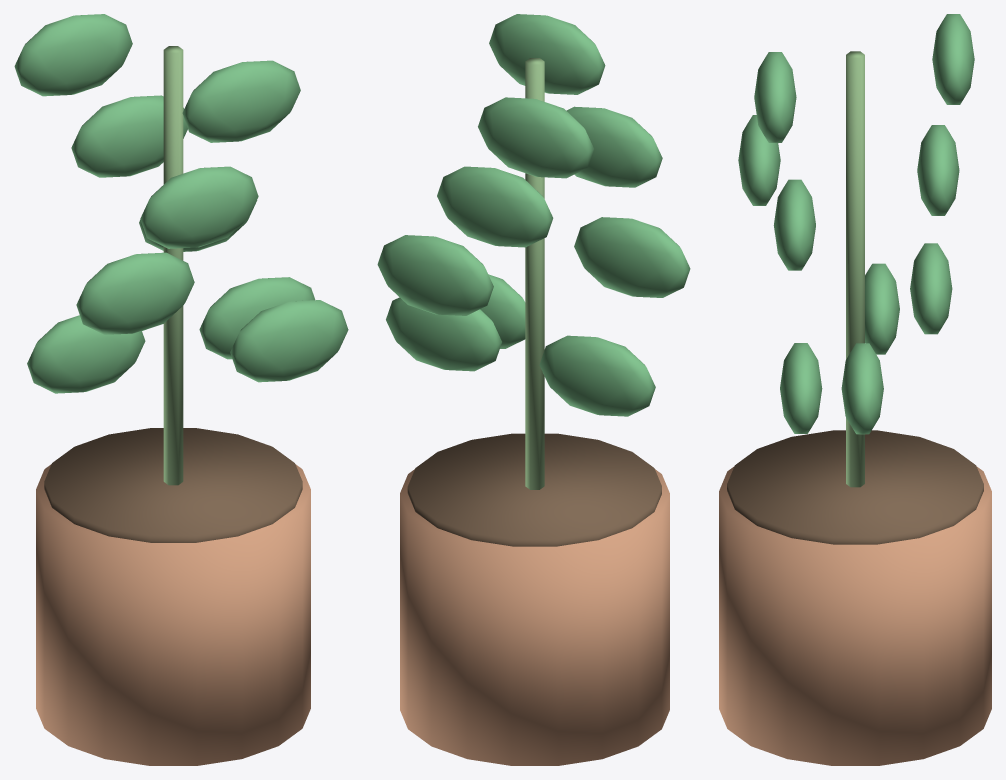
File: planta.glb
3 views of the same model, side by side, from view 1: azimuth 30°, elevation 25°; view 2: azimuth 150°, elevation 25°; view 3: azimuth 270°, elevation 25° (orthographic).
Visible parts, largest first — view 1: Vaso, Terra, Folha.007, Folha.005, Folha.003, Folha.008, Folha.006, Haste, Folha.002, Folha.004, Folha; view 2: Vaso, Terra, Folha.005, Folha.004, Folha.002, Folha.001, Folha.003, Folha.007, Haste, Folha, Folha.006, Folha.008; view 3: Vaso, Terra, Haste, Folha.001, Folha, Folha.005, Folha.007, Folha.002, Folha.008, Folha.003, Folha.006, Folha.004.
Boxes of the visible parts, left/top/right/bottom form: Vaso: left=36, top=464, right=310, bottom=765; Terra: left=44, top=428, right=302, bottom=542; Folha.007: left=182, top=60, right=300, bottom=142; Folha.005: left=76, top=252, right=194, bottom=334; Folha.003: left=14, top=14, right=132, bottom=96; Folha.008: left=230, top=300, right=348, bottom=382; Folha.006: left=140, top=166, right=258, bottom=248; Haste: left=163, top=46, right=183, bottom=485; Folha.002: left=71, top=95, right=187, bottom=177; Folha.004: left=27, top=315, right=145, bottom=393; Folha: left=199, top=277, right=315, bottom=359; Vaso: left=400, top=469, right=669, bottom=765; Terra: left=407, top=433, right=661, bottom=546; Folha.005: left=574, top=217, right=690, bottom=297; Folha.004: left=539, top=335, right=655, bottom=416; Folha.002: left=437, top=166, right=553, bottom=247; Folha.001: left=377, top=235, right=493, bottom=315; Folha.003: left=478, top=97, right=593, bottom=178; Folha.007: left=489, top=14, right=605, bottom=94; Haste: left=525, top=58, right=544, bottom=489; Folha: left=386, top=297, right=501, bottom=371; Folha.006: left=566, top=106, right=662, bottom=187; Folha.008: left=480, top=274, right=525, bottom=348; Vaso: left=719, top=466, right=991, bottom=765; Terra: left=727, top=430, right=983, bottom=544; Haste: left=846, top=51, right=864, bottom=487; Folha.001: left=910, top=243, right=952, bottom=334; Folha: left=841, top=343, right=883, bottom=434; Folha.005: left=773, top=179, right=815, bottom=270; Folha.007: left=754, top=52, right=796, bottom=142; Folha.002: left=917, top=125, right=959, bottom=215; Folha.008: left=780, top=343, right=822, bottom=433; Folha.003: left=932, top=14, right=974, bottom=104; Folha.006: left=738, top=115, right=780, bottom=205; Folha.004: left=865, top=263, right=899, bottom=354.
Bounding box in the file's own units: 0.3945 × 0.914 × 0.34.
